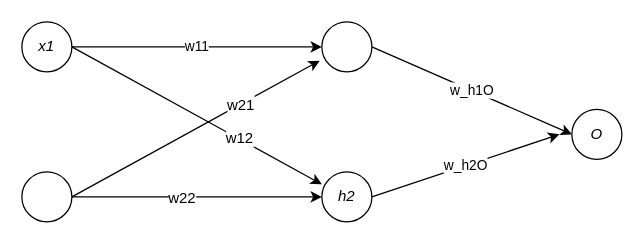
This 644x244 diagram has some shape labels left out. The centre of each missing label's shape, as x and y in pixels:
h1: (x=346, y=46)
x2: (x=46, y=196)
